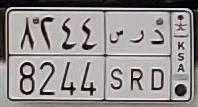2: (38, 16, 57, 96)
4: (80, 16, 97, 97), (61, 17, 76, 97)
8: (19, 16, 36, 96)
D: (151, 27, 165, 91)
R: (129, 28, 146, 92)
S: (109, 28, 124, 90)
